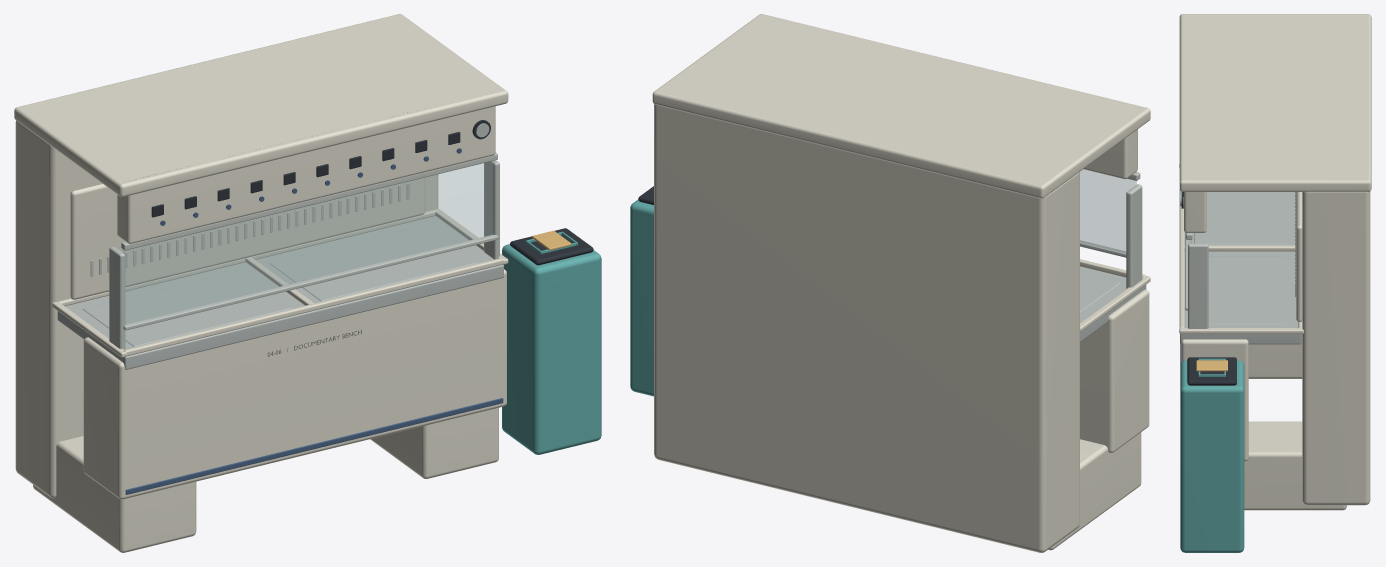
File: wet-bench.glb
3 renders of one model, left to right at view 1: azimuth 30°, elevation 25°; view 2: azimuth 150°, elevation 25°; view 3: azimuth 270°, elevation 25°, orthographic. The views are drawn at different scales.
Parts seen in each view (by area): view 1: Bench_front_undertray, Bench_enclosure_cap, Bench_fixed_sheet, Bench_main_back, Footprint_separate_stand, Bench_upper_inactive_panel, Bench_passive_backsplash, Bench_dry_counter_base, Bench_solid_side_foot_0, Bench_dry_recess_1, Bench_dry_recess_0, Bench_solid_side_foot_1 (+9 smaller); view 2: Bench_main_back, Bench_enclosure_cap, Bench_front_undertray, Footprint_separate_stand, Bench_solid_side_foot_0, Bench_fixed_sheet, Bench_clear_sheet_support, Bench_upper_inactive_panel, Bench_dry_counter_base, Bench_dry_recess_0, Bench_dry_rim_left_edge; view 3: Bench_enclosure_cap, Bench_main_back, Footprint_separate_stand, Bench_dry_recess_1, Bench_solid_side_foot_1, Bench_dry_recess_0, Bench_dry_counter_base, Bench_solid_side_foot_0, Bench_front_undertray, Bench_clear_sheet_support.001, Footprint_demo_plinth, Bench_upper_inactive_panel (+5 smaller).
Part boxes in pixels (x1,y1,x2,y2): Bench_front_undertray: (83,269,506,499); Bench_enclosure_cap: (14,14,508,196); Bench_fixed_sheet: (123,161,494,323); Bench_main_back: (15,120,438,498); Footprint_separate_stand: (502,244,601,454); Bench_upper_inactive_panel: (117,106,495,243); Bench_passive_backsplash: (70,177,425,299); Bench_dry_counter_base: (57,216,503,369); Bench_solid_side_foot_0: (33,436,196,552); Bench_dry_recess_1: (270,224,479,301); Bench_dry_recess_0: (82,270,292,346); Bench_solid_side_foot_1: (370,408,498,478); Bench_main_back: (654,104,1079,552); Bench_enclosure_cap: (652,14,1150,198); Bench_front_undertray: (1080,289,1149,452); Footprint_separate_stand: (630,199,653,396); Bench_solid_side_foot_0: (1048,432,1141,550); Bench_fixed_sheet: (1080,169,1136,255); Bench_clear_sheet_support: (1126,184,1142,288); Bench_upper_inactive_panel: (1083,129,1137,179); Bench_dry_counter_base: (1080,266,1146,341); Bench_dry_recess_0: (1080,272,1121,312); Bench_dry_rim_left_edge: (1080,276,1150,332); Bench_enclosure_cap: (1179,14,1371,191); Bench_main_back: (1302,191,1370,505); Footprint_separate_stand: (1180,360,1244,552); Bench_dry_recess_1: (1208,256,1286,325); Bench_solid_side_foot_1: (1244,421,1346,510); Bench_dry_recess_0: (1194,192,1286,244); Bench_dry_counter_base: (1180,192,1301,344); Bench_solid_side_foot_0: (1248,334,1302,378); Bench_front_undertray: (1181,339,1248,461); Bench_clear_sheet_support.001: (1188,243,1208,328); Footprint_demo_plinth: (1187,357,1236,385); Bench_upper_inactive_panel: (1184,192,1206,232).
Bounding box in the file's own units: 2.27 × 1.68 × 0.8805.
